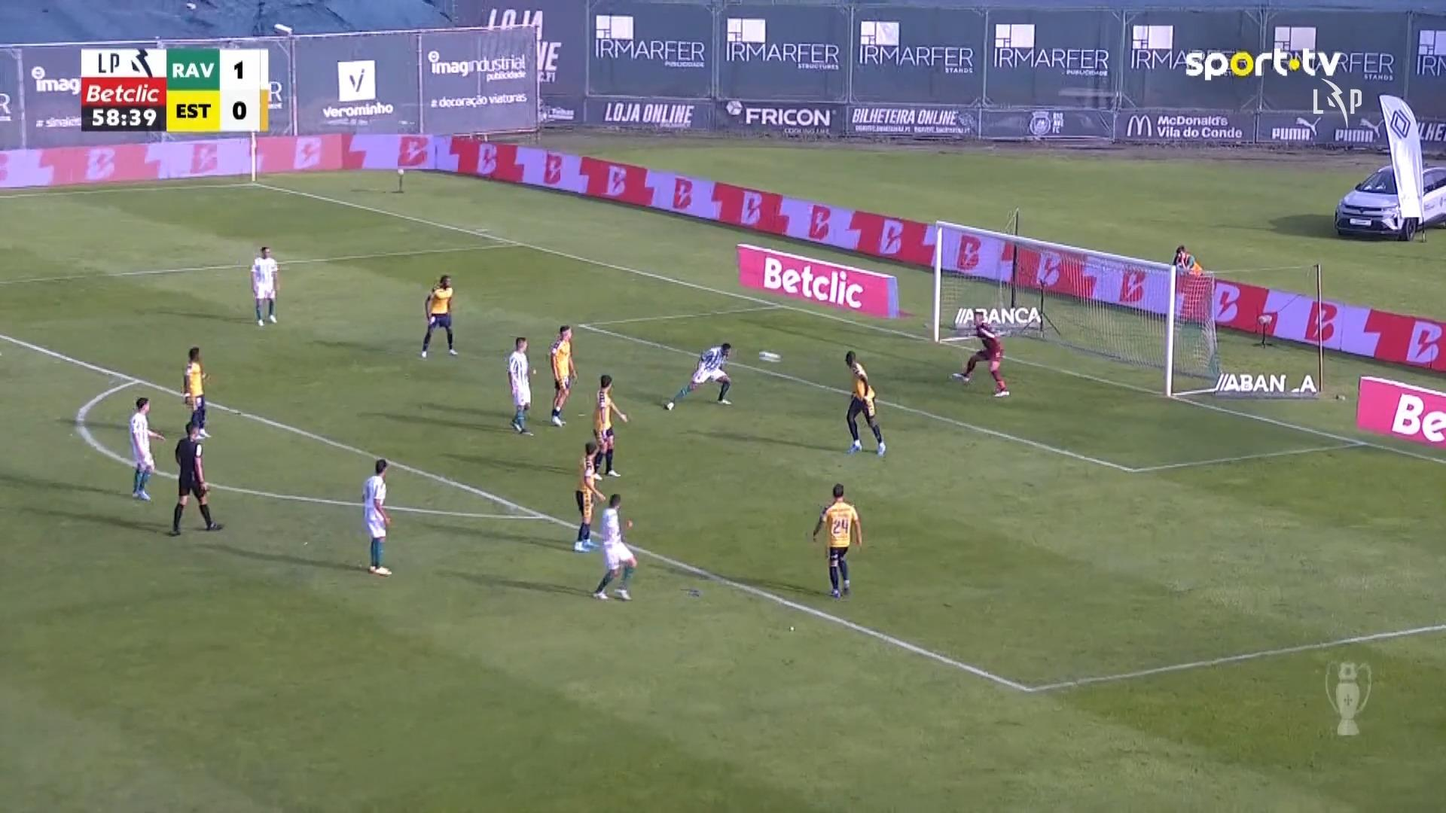ball: (758, 350, 780, 361)
goalkeeper: (950, 309, 1010, 397)
player: (811, 482, 862, 598), (591, 492, 637, 600), (663, 341, 734, 410), (843, 350, 886, 456), (128, 396, 166, 501), (590, 373, 628, 477), (360, 457, 392, 575), (573, 440, 606, 552), (419, 274, 458, 358), (548, 324, 578, 427), (506, 336, 534, 435), (182, 345, 209, 438), (249, 245, 279, 326)
referee: (169, 420, 223, 534)
